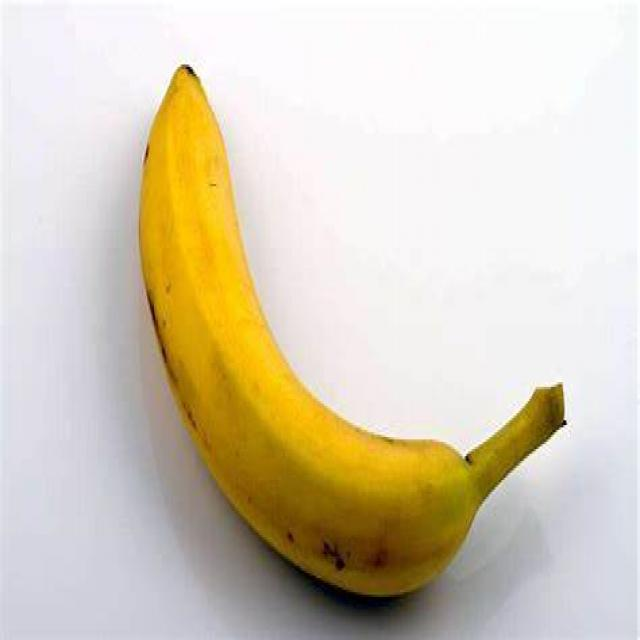Banana: (136, 59, 570, 595)
